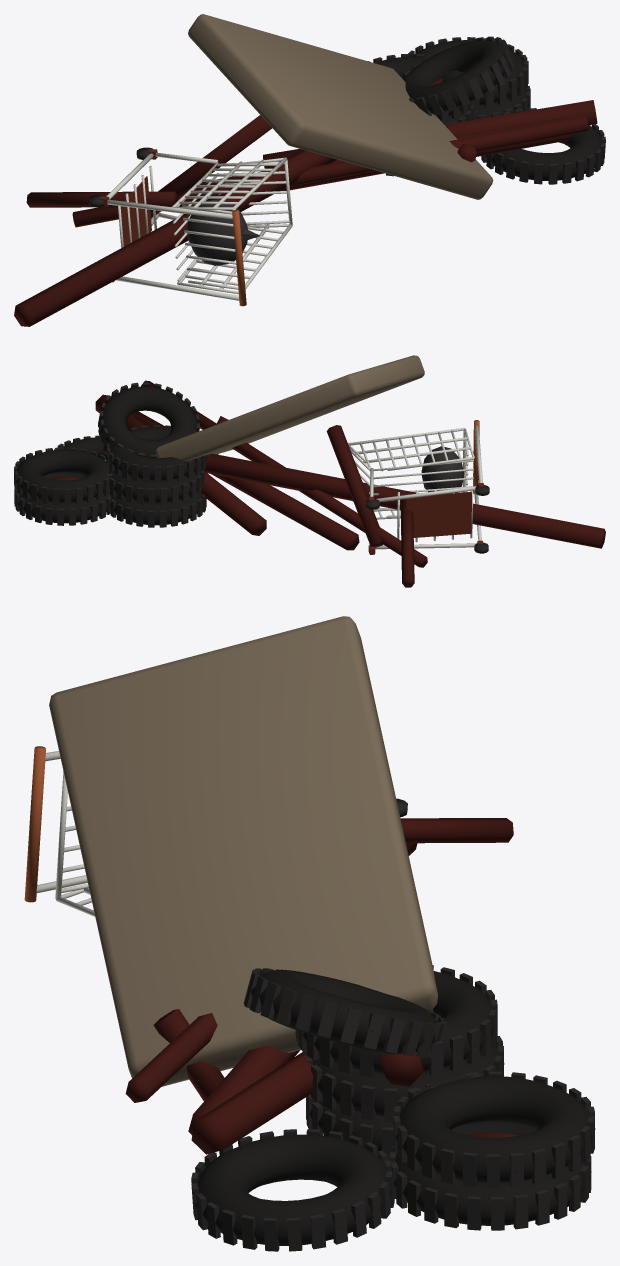
File: tunnel_jam.glb
The picture shows the model from 3 angles, top to bottom: view 1: azimuth 30°, elevation 25°; view 2: azimuth 150°, elevation 25°; view 3: azimuth 270°, elevation 25°; orthographic projection. The views are drawn at different scales.
Parts seen in each view (by area): view 1: mattress, branch_3, slid, ground, branch_1, branch_6, bag, branch_5, short_1, branch_2, branch_0, tray_rust (+5 smaller); view 2: mattress, branch_3, slid, short_1, branch_0, tall_2, tray_rust, tall_0, short_0, tall_1, branch_1, branch_5 (+9 smaller); view 3: mattress, ground, short_1, slid, short_0, tall_2, tall_1, branch_6, branch_1, branch_2, tall_0, branch_0 (+3 smaller).
Boxes of the visible parts, left/top/right/bottom form: mattress: left=188, top=14, right=493, bottom=199; branch_3: left=14, top=78, right=442, bottom=326; slid: left=401, top=36, right=515, bottom=115; ground: left=481, top=108, right=605, bottom=184; branch_1: left=72, top=115, right=588, bottom=227; branch_6: left=263, top=100, right=597, bottom=168; bag: left=187, top=199, right=247, bottom=265; branch_5: left=150, top=115, right=271, bottom=217; short_1: left=408, top=37, right=528, bottom=109; branch_2: left=26, top=191, right=177, bottom=207; branch_0: left=191, top=116, right=571, bottom=206; tray_rust: left=118, top=176, right=151, bottom=246; mattress: left=155, top=355, right=424, bottom=460; branch_3: left=103, top=442, right=605, bottom=548; slid: left=98, top=382, right=199, bottom=458; short_1: left=14, top=447, right=112, bottom=505; branch_0: left=132, top=411, right=359, bottom=550; tall_2: left=107, top=425, right=207, bottom=483; tray_rust: left=406, top=491, right=471, bottom=537; tall_0: left=107, top=491, right=206, bottom=527; short_0: left=14, top=472, right=111, bottom=525; tall_1: left=106, top=461, right=204, bottom=505; branch_1: left=141, top=380, right=427, bottom=567; branch_5: left=326, top=425, right=382, bottom=547; mattress: left=49, top=616, right=437, bottom=1086; ground: left=191, top=1129, right=394, bottom=1251; short_1: left=393, top=1071, right=595, bottom=1187; slid: left=243, top=968, right=447, bottom=1057; short_0: left=389, top=1121, right=591, bottom=1230; tall_2: left=295, top=965, right=497, bottom=1078; tall_1: left=302, top=1036, right=504, bottom=1122; branch_6: left=191, top=1052, right=313, bottom=1154; branch_1: left=125, top=843, right=417, bottom=1102; branch_2: left=400, top=818, right=513, bottom=843; tall_0: left=306, top=1094, right=393, bottom=1160; branch_0: left=188, top=1045, right=300, bottom=1135.
Size of the model in its own units: 4.4 by 1.43 by 2.15.
